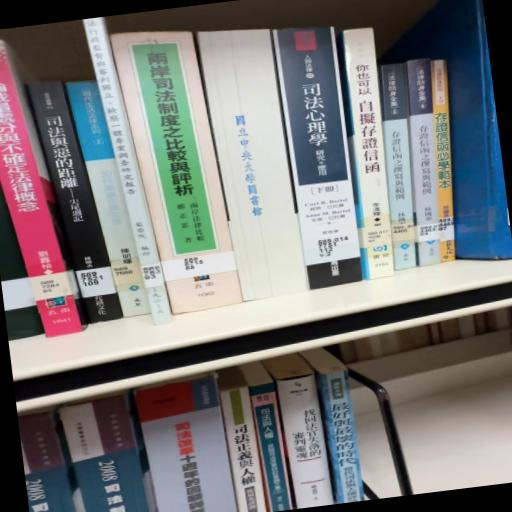backward: (197, 29, 309, 301)
book: (114, 26, 236, 266), (64, 71, 172, 326), (0, 32, 84, 346), (274, 20, 369, 296), (28, 76, 125, 328), (420, 0, 511, 264), (332, 24, 402, 284), (276, 372, 336, 510), (314, 366, 364, 504), (220, 385, 268, 512)
